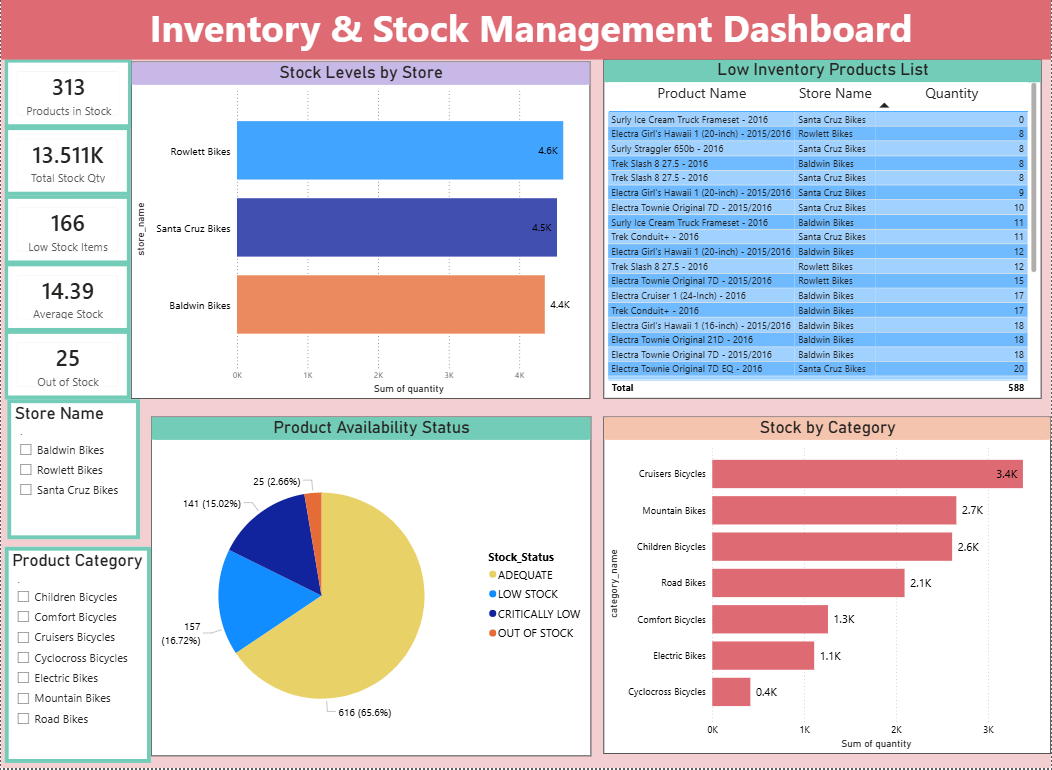

This screenshot's page, from the dashboard's own definition file:
{"tool":"powerbi","page":{"name":"Inventory Dashboard","canvas":[1500,1100],"ordinal":1},"visuals":[{"type":"cardVisual","fields":{"Data":["Count(v_current_inventory_status.product_id)"]},"box":[5.1,88.1,181.4,98],"z":0},{"type":"cardVisual","fields":{"Data":["Sum(v_current_inventory_status.current_stock)"]},"box":[5.1,184.7,179.7,98],"z":1000},{"type":"pieChart","title":"Product Availability Status","fields":{"Category":["stocks_clened.Stock_Status"],"Y":["CountNonNull(stocks_clened.product_id)"]},"box":[213.6,598.3,628.8,484.7],"z":2000},{"type":"clusteredBarChart","title":"Stock Levels by Store","fields":{"Category":["stores.store_name"],"Y":["Sum(stocks_clened.quantity)"]},"box":[186.4,91.5,655.9,481.4],"z":3000},{"type":"tableEx","title":"Low Inventory Products List","fields":{"Values":["products_cleaned.product_name","stores.store_name","Sum(stocks_clened.quantity)"]},"box":[861,88.1,625.4,484.7],"z":4000},{"type":"clusteredBarChart","title":"Stock by Category","fields":{"Category":["categories.category_name"],"Y":["Sum(stocks_clened.quantity)"]},"box":[861,598.3,639,481.4],"z":5000},{"type":"textbox","box":[0,0,1500,88.1],"z":6000},{"type":"cardVisual","fields":{"Data":["v_current_inventory_status.Low Stock Items"]},"box":[5.1,281.4,179.7,98],"z":7000},{"type":"cardVisual","fields":{"Data":["Avg(v_current_inventory_status.current_stock)"]},"box":[5.1,378,179.7,98],"z":8000},{"type":"slicer","title":"Product Category","fields":{"Values":["categories.category_name"]},"box":[5.1,784.7,208.5,308.5],"z":9000},{"type":"slicer","title":"Store Name","fields":{"Values":["stores.store_name"]},"box":[8.5,572.9,189.8,200],"z":10000},{"type":"cardVisual","fields":{"Data":["stocks_clened.Out of Stock"]},"box":[5.1,474.6,179.7,98],"z":11000}]}

Visuals, with their boxes in screenshot pixels (x1, y1, x2, y2), scaled from the page's 1500x1100 canvas onto the 1052x770 screenshot:
cardVisual - Count(v_current_inventory_status.product_id): left=4, top=62, right=131, bottom=130
cardVisual - Sum(v_current_inventory_status.current_stock): left=4, top=129, right=130, bottom=198
"Product Availability Status" pieChart: left=150, top=419, right=591, bottom=758
"Stock Levels by Store" clusteredBarChart: left=131, top=64, right=591, bottom=401
"Low Inventory Products List" tableEx: left=604, top=62, right=1042, bottom=401
"Stock by Category" clusteredBarChart: left=604, top=419, right=1051, bottom=756
textbox: left=0, top=0, right=1051, bottom=62
cardVisual - v_current_inventory_status.Low Stock Items: left=4, top=197, right=130, bottom=266
cardVisual - Avg(v_current_inventory_status.current_stock): left=4, top=265, right=130, bottom=333
"Product Category" slicer: left=4, top=549, right=150, bottom=765
"Store Name" slicer: left=6, top=401, right=139, bottom=541
cardVisual - stocks_clened.Out of Stock: left=4, top=332, right=130, bottom=401
